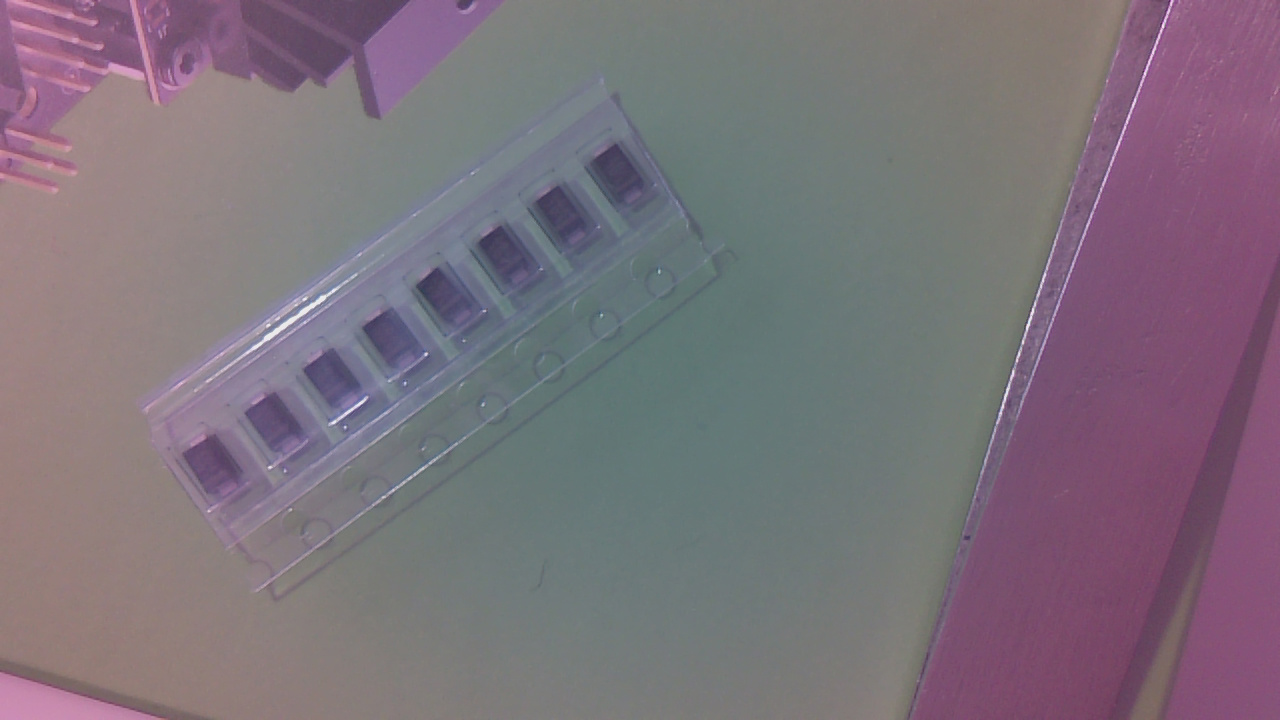Diode: (186, 437, 252, 500), (592, 147, 656, 210), (248, 394, 309, 458), (419, 270, 483, 330), (537, 190, 602, 249), (367, 311, 427, 374), (307, 353, 369, 413), (480, 230, 543, 288)
